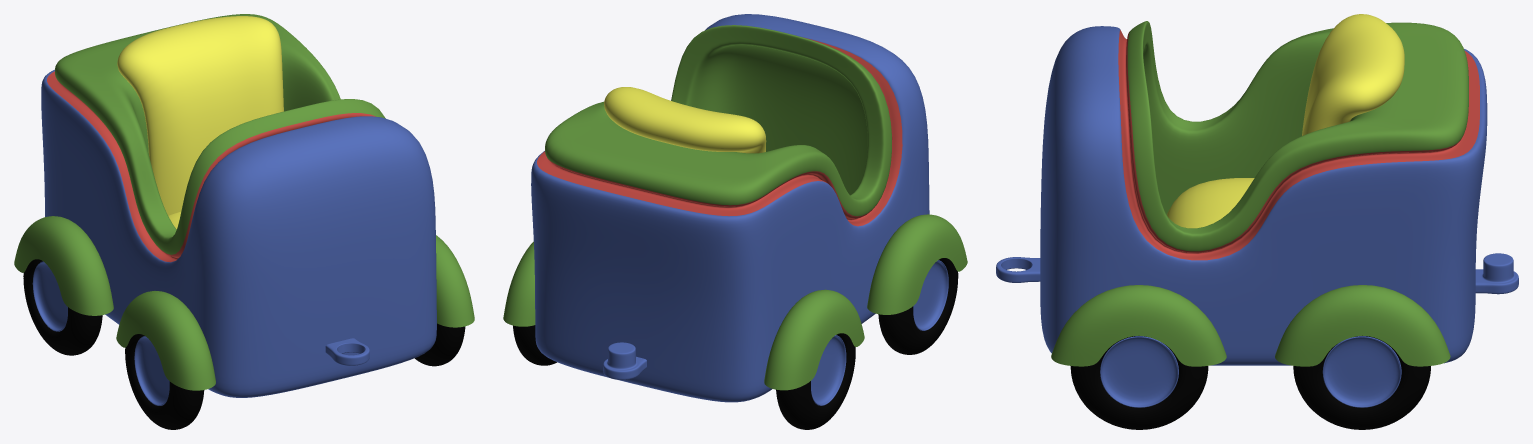
The model's file is bluewagon.fbx.
3 renders of one model, left to right at view 1: azimuth 30°, elevation 25°; view 2: azimuth 150°, elevation 25°; view 3: azimuth 270°, elevation 25°, orthographic. The views are drawn at different scales.
Parts seen in each view (by area): view 1: Body, Whells, Back, Cylinder.001; view 2: Body, Whells, Back, Cylinder.010; view 3: Body, Whells, Back, Seat, Cylinder.010, Cylinder.001.
Boxes of the visible parts, x1,y1,x2,y2 form: Body: (41, 14, 436, 397); Whells: (14, 216, 474, 429); Back: (117, 16, 283, 215); Cylinder.001: (325, 338, 369, 365); Body: (531, 14, 929, 402); Whells: (503, 214, 967, 429); Back: (604, 87, 766, 153); Cylinder.010: (603, 342, 646, 379); Body: (1040, 21, 1487, 365); Whells: (1051, 285, 1450, 429); Back: (1302, 14, 1404, 135); Seat: (1167, 178, 1254, 228); Cylinder.010: (1475, 253, 1518, 294); Cylinder.001: (996, 257, 1040, 282).
Size of the model in its own units: 68.52 by 62.53 by 94.5.
